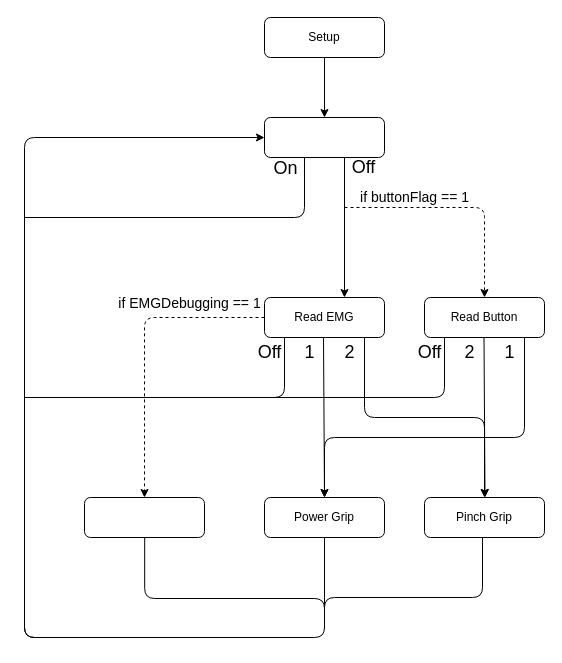
Some shapes in this 562 by 663 pixel diagram are drawn without their labels. Each missing label, with the centre of its shape:
Print EMG Data: (x=144, y=517)
Read Lock Switch: (x=324, y=137)
